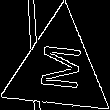M_W: (33, 43, 84, 95)
